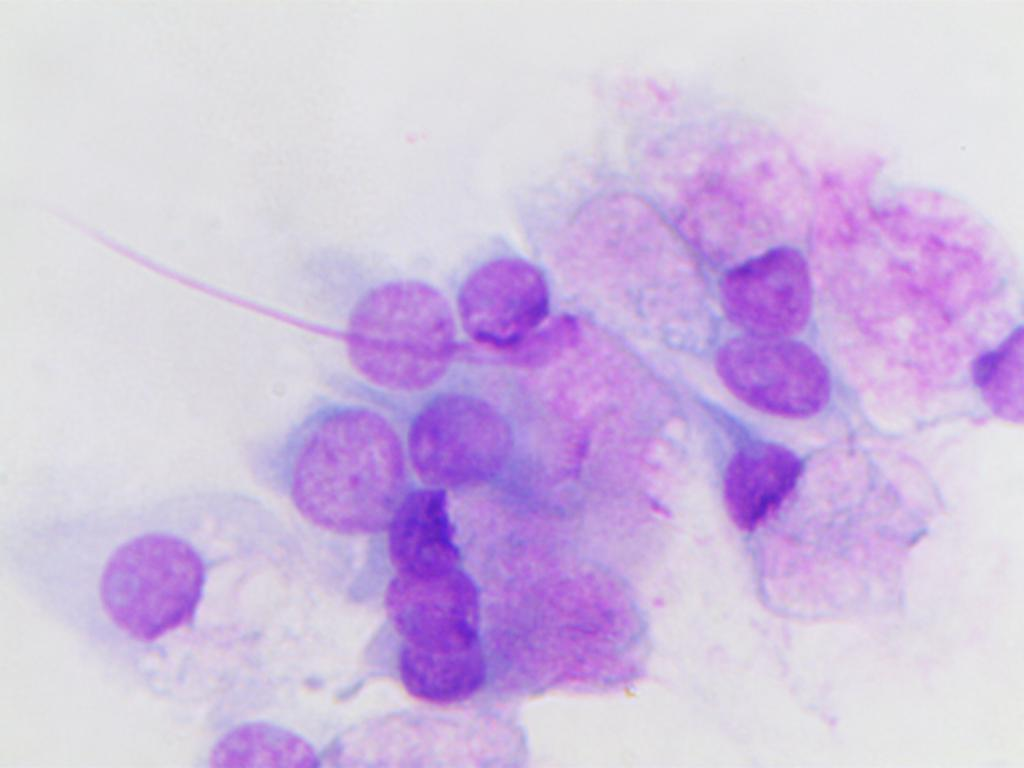epithelial: (222, 384, 406, 532), (329, 261, 453, 397), (711, 336, 846, 427)
goblet_cell: (829, 161, 1024, 432), (79, 524, 362, 709), (696, 434, 931, 632), (457, 242, 640, 417), (672, 152, 823, 341), (190, 699, 550, 768), (391, 484, 618, 586), (399, 401, 666, 484), (367, 568, 652, 645), (370, 632, 661, 707)
